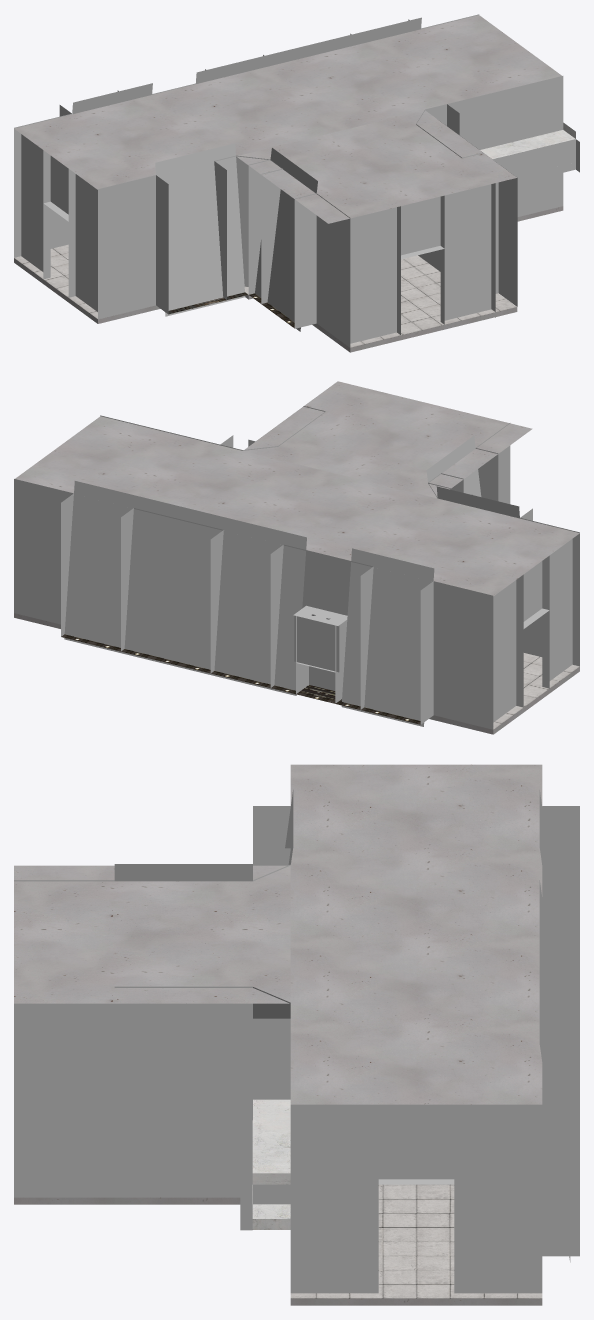
The model's file is LC_room3_2.obj.
3 renders of one model, top to bottom at view 1: azimuth 30°, elevation 25°; view 2: azimuth 150°, elevation 25°; view 3: azimuth 270°, elevation 25°, orthographic. The views are drawn at different scales.
Visible parts, largest first — view 1: LC_room3_2; view 2: LC_room3_2; view 3: LC_room3_2.
Part boxes in pixels (bbox=[...]): LC_room3_2: bbox=[14, 14, 579, 352]; LC_room3_2: bbox=[14, 381, 579, 734]; LC_room3_2: bbox=[14, 764, 579, 1305].
Bounding box in the file's own units: 20.01 × 6.06 × 14.06.
